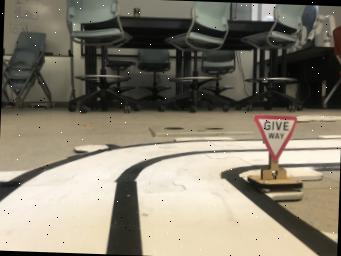give_way: (247, 114, 302, 200), (247, 114, 302, 200), (247, 114, 302, 200)
street: (0, 139, 338, 256), (0, 139, 338, 256), (0, 139, 338, 256), (279, 138, 341, 170), (279, 138, 341, 170), (279, 138, 341, 170)
